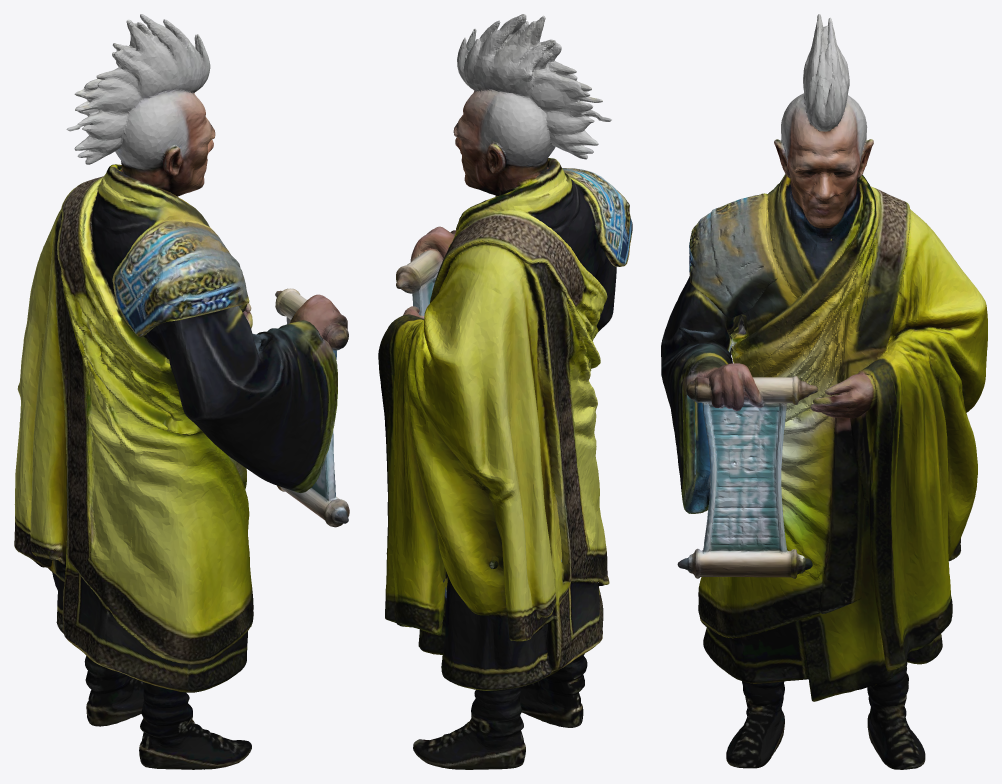
Rendered from modelo26.glb.
3 views of the same model, side by side, from view 1: azimuth 30°, elevation 25°; view 2: azimuth 150°, elevation 25°; view 3: azimuth 270°, elevation 25° (orthographic).
Parts seen in each view (by area): view 1: tripo_node_acba275e-8d90-43af-91b9-0ce75cd5d785; view 2: tripo_node_acba275e-8d90-43af-91b9-0ce75cd5d785; view 3: tripo_node_acba275e-8d90-43af-91b9-0ce75cd5d785.
Boxes of the visible parts, x1,y1,x2,y2 form: tripo_node_acba275e-8d90-43af-91b9-0ce75cd5d785: [14, 14, 349, 769]; tripo_node_acba275e-8d90-43af-91b9-0ce75cd5d785: [378, 14, 632, 769]; tripo_node_acba275e-8d90-43af-91b9-0ce75cd5d785: [661, 14, 987, 769].
Size of the model in its own units: 0.3351 by 1 by 0.4114.
1 material, 1 textured.
